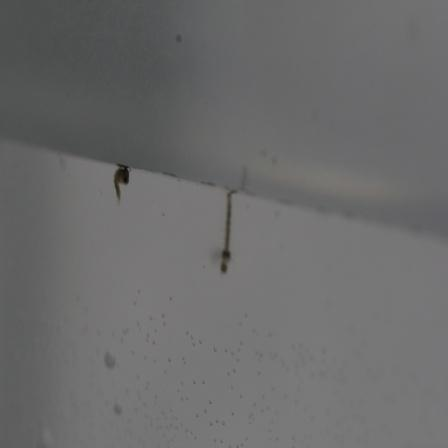Jentik-Nyamuk: (215, 184, 237, 277), (110, 159, 133, 206)
